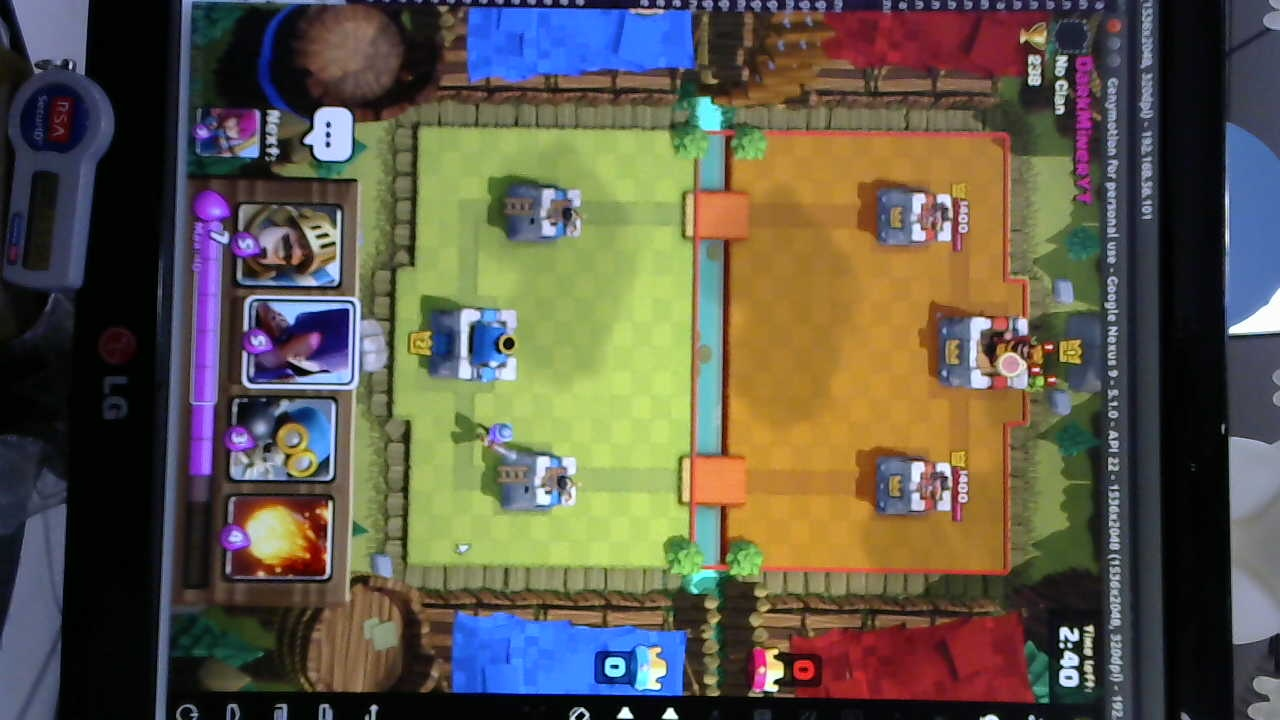arena: (506, 185, 587, 248), (498, 449, 581, 508)
earena: (874, 453, 959, 520), (873, 187, 957, 248)
eking: (939, 316, 1035, 390)
goblin: (1020, 369, 1052, 394)
king: (436, 305, 524, 385)
musketeer: (473, 420, 518, 461)
